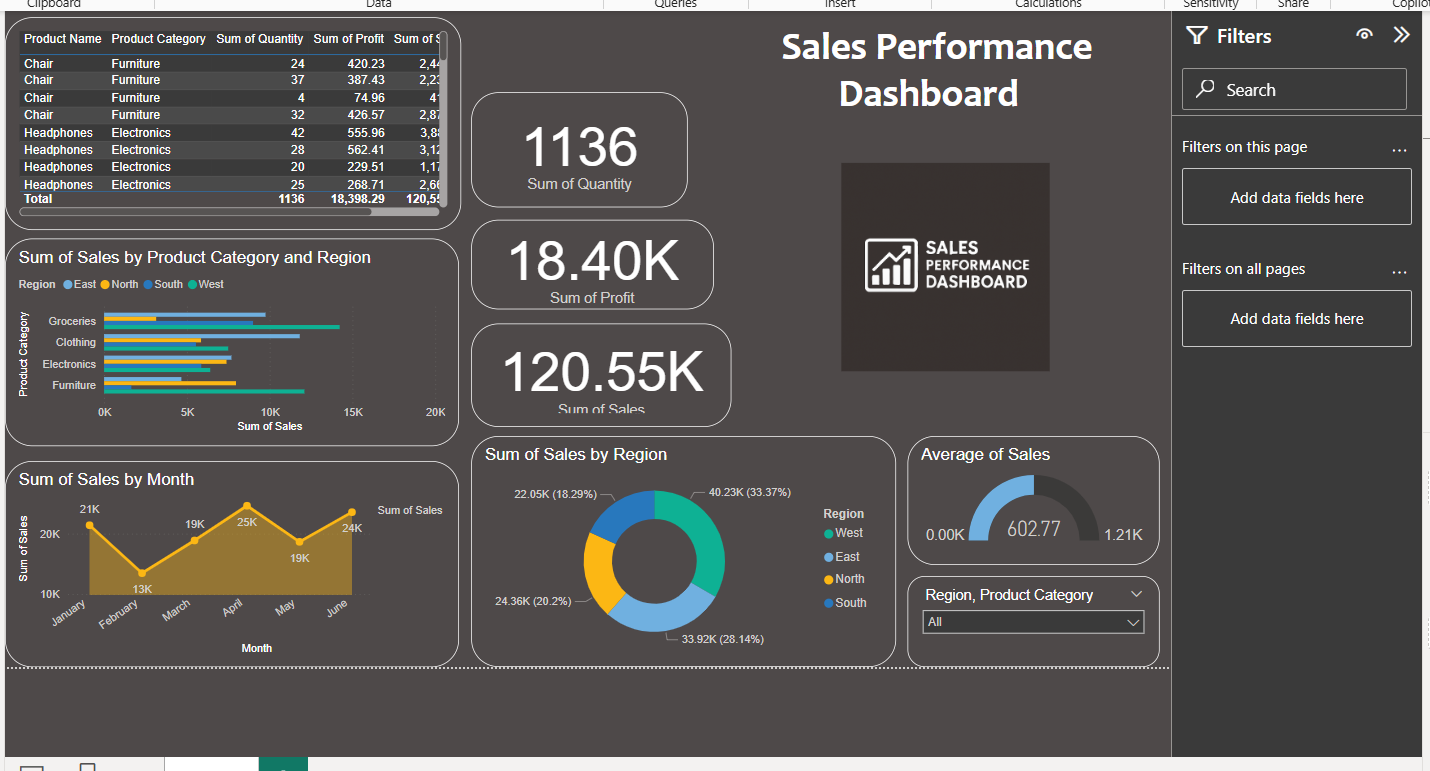

The page's visual inventory and layout, read from the dashboard file:
{"tool":"powerbi","page":{"name":"Page 1","canvas":[1280,720],"ordinal":0},"visuals":[{"type":"card","fields":{"Values":["Sum(Sheet1.Sales)"]},"box":[511.8,343.1,285.4,113.9],"z":0},{"type":"card","fields":{"Values":["Sum(Sheet1.Profit)"]},"box":[511.8,229.2,266.2,98.8],"z":1000},{"type":"card","fields":{"Values":["Sum(Sheet1.Quantity)"]},"box":[511.8,89.2,237.4,126.2],"z":2000},{"type":"clusteredBarChart","fields":{"Category":["Sheet1.Product Category"],"Y":["Sum(Sheet1.Sales)"],"Series":["Sheet1.Region"]},"box":[0,249.7,498.1,227.8],"z":3000},{"type":"lineChart","fields":{"Category":["Sheet1.S.Variation.Date Hierarchy.Month"],"Y":["Sum(Sheet1.Sales)"]},"box":[0,494,498.1,226.4],"z":4000},{"type":"tableEx","fields":{"Values":["Sheet1.Product Name","Sheet1.Product Category","Sum(Sheet1.Quantity)","Sum(Sheet1.Profit)","Sum(Sheet1.Sales)","Sheet1.Region"]},"box":[0,6.9,500.9,233.3],"z":5000},{"type":"textbox","box":[778,6.9,489.9,145.5],"z":6000},{"type":"slicer","fields":{"Values":["Sheet1.Region","Sheet1.Product Category"]},"box":[990.7,620.2,277.2,100.2],"z":7000},{"type":"donutChart","fields":{"Y":["Sum(Sheet1.Sales)"],"Category":["Sheet1.Region"]},"box":[511.8,466.6,466.6,253.9],"z":8000},{"type":"image","box":[835.7,161.9,393.8,238.8],"z":8001},{"type":"gauge","fields":{"Y":["Avg(Sheet1.Sales)"]},"box":[990.7,466.6,277.2,141.3],"z":8002}]}

Visuals, with their boxes in screenshot pixels (x1, y1, x2, y2):
card - Sum(Sheet1.Sales): {"x1": 540, "y1": 359, "x2": 842, "y2": 479}
card - Sum(Sheet1.Profit): {"x1": 540, "y1": 238, "x2": 821, "y2": 343}
card - Sum(Sheet1.Quantity): {"x1": 540, "y1": 90, "x2": 791, "y2": 224}
clusteredBarChart - Sheet1.Product Category x Sum(Sheet1.Sales): {"x1": 0, "y1": 260, "x2": 526, "y2": 500}
lineChart - Sheet1.S.Variation.Date Hierarchy.Month x Sum(Sheet1.Sales): {"x1": 0, "y1": 518, "x2": 526, "y2": 757}
tableEx - Sheet1.Product Name x Sheet1.Product Category: {"x1": 0, "y1": 4, "x2": 529, "y2": 250}
textbox: {"x1": 821, "y1": 4, "x2": 1339, "y2": 157}
slicer - Sheet1.Region x Sheet1.Product Category: {"x1": 1046, "y1": 651, "x2": 1339, "y2": 757}
donutChart - Sum(Sheet1.Sales) x Sheet1.Region: {"x1": 540, "y1": 489, "x2": 1033, "y2": 757}
image: {"x1": 882, "y1": 167, "x2": 1298, "y2": 419}
gauge - Avg(Sheet1.Sales): {"x1": 1046, "y1": 489, "x2": 1339, "y2": 638}
